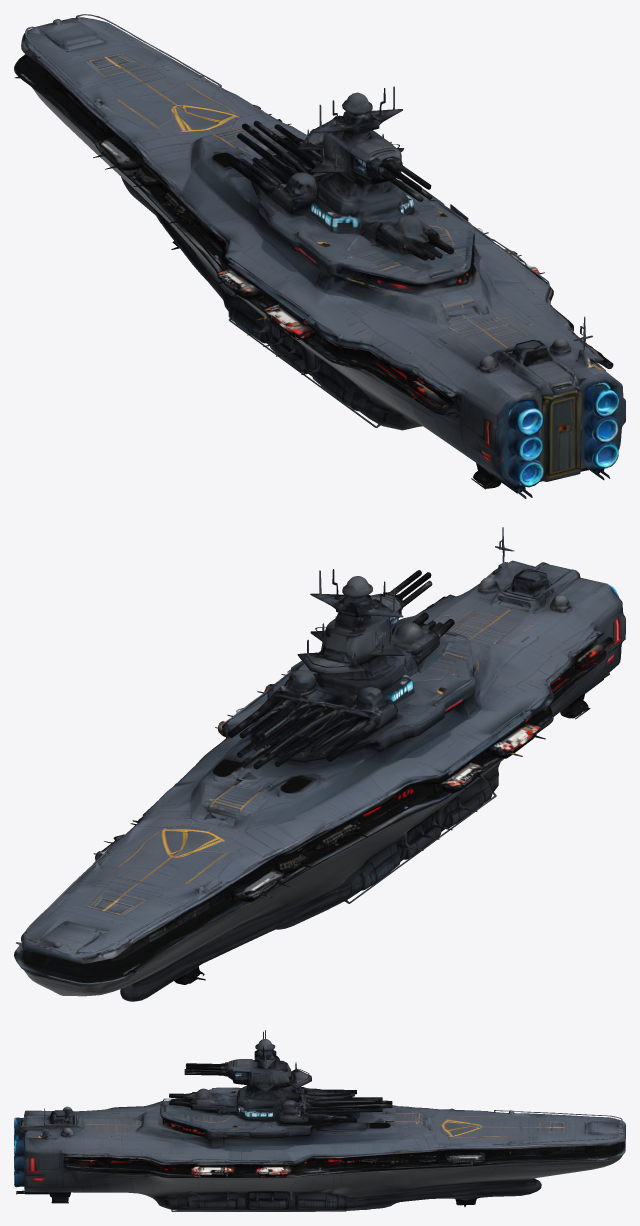
The model's file is ship-player-v1.glb.
3 renders of one model, top to bottom at view 1: azimuth 30°, elevation 25°; view 2: azimuth 150°, elevation 25°; view 3: azimuth 270°, elevation 25°, orthographic. The views are drawn at different scales.
Visible parts, largest first — view 1: node_0; view 2: node_0; view 3: node_0.
Part boxes in pixels (left/top/right/bottom): node_0: left=14, top=14, right=625, bottom=498; node_0: left=14, top=527, right=625, bottom=1001; node_0: left=14, top=1030, right=625, bottom=1211.
Bounding box in the file's own units: 0.3483 × 0.3541 × 1.17.
1 material, 1 textured.
